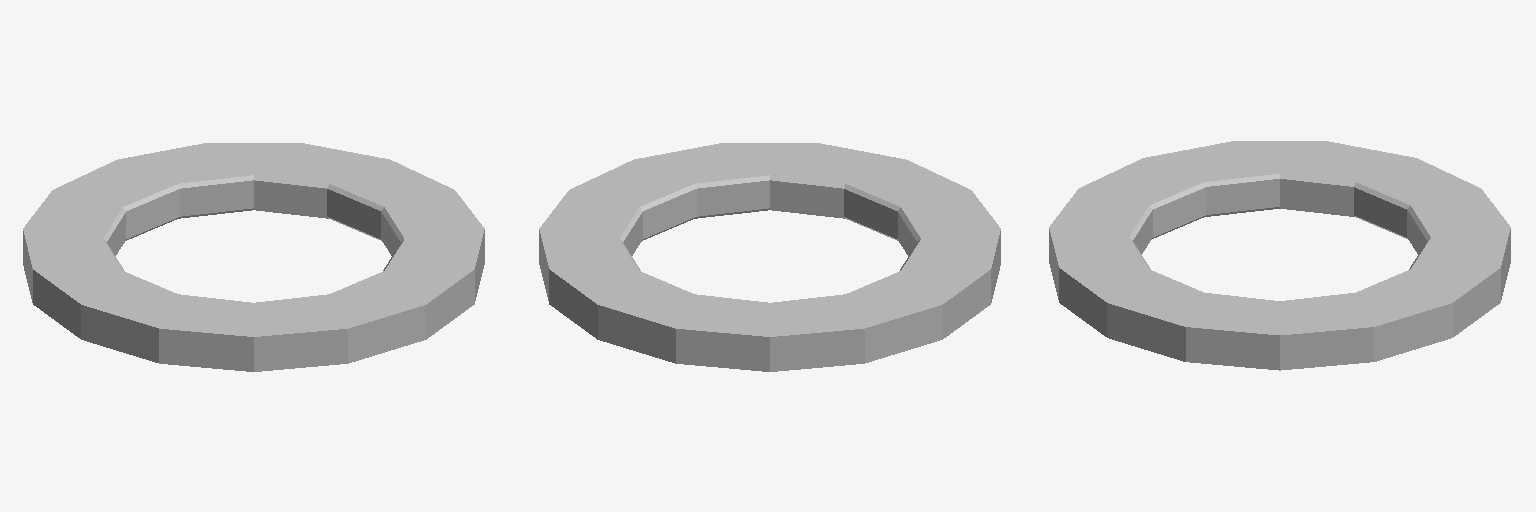
File: 69. Шайба упорная.obj
3 views of the same model, side by side, from view 1: azimuth 30°, elevation 25°; view 2: azimuth 150°, elevation 25°; view 3: azimuth 270°, elevation 25° (orthographic).
Visible parts, largest first — view 1: Твердое тело1; view 2: Твердое тело1; view 3: Твердое тело1.
Boxes of the visible parts, x1,y1,x2,y2 form: Твердое тело1: [23, 143, 484, 371]; Твердое тело1: [539, 143, 1000, 371]; Твердое тело1: [1049, 141, 1510, 370].
Bounding box in the file's own units: 59.34 × 5 × 59.67.